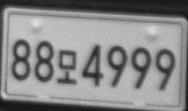4: (81, 44, 104, 86)
8: (10, 38, 31, 81), (34, 40, 54, 82)
9: (105, 43, 128, 87), (130, 45, 152, 89), (154, 47, 176, 90)
모: (56, 49, 77, 85)
